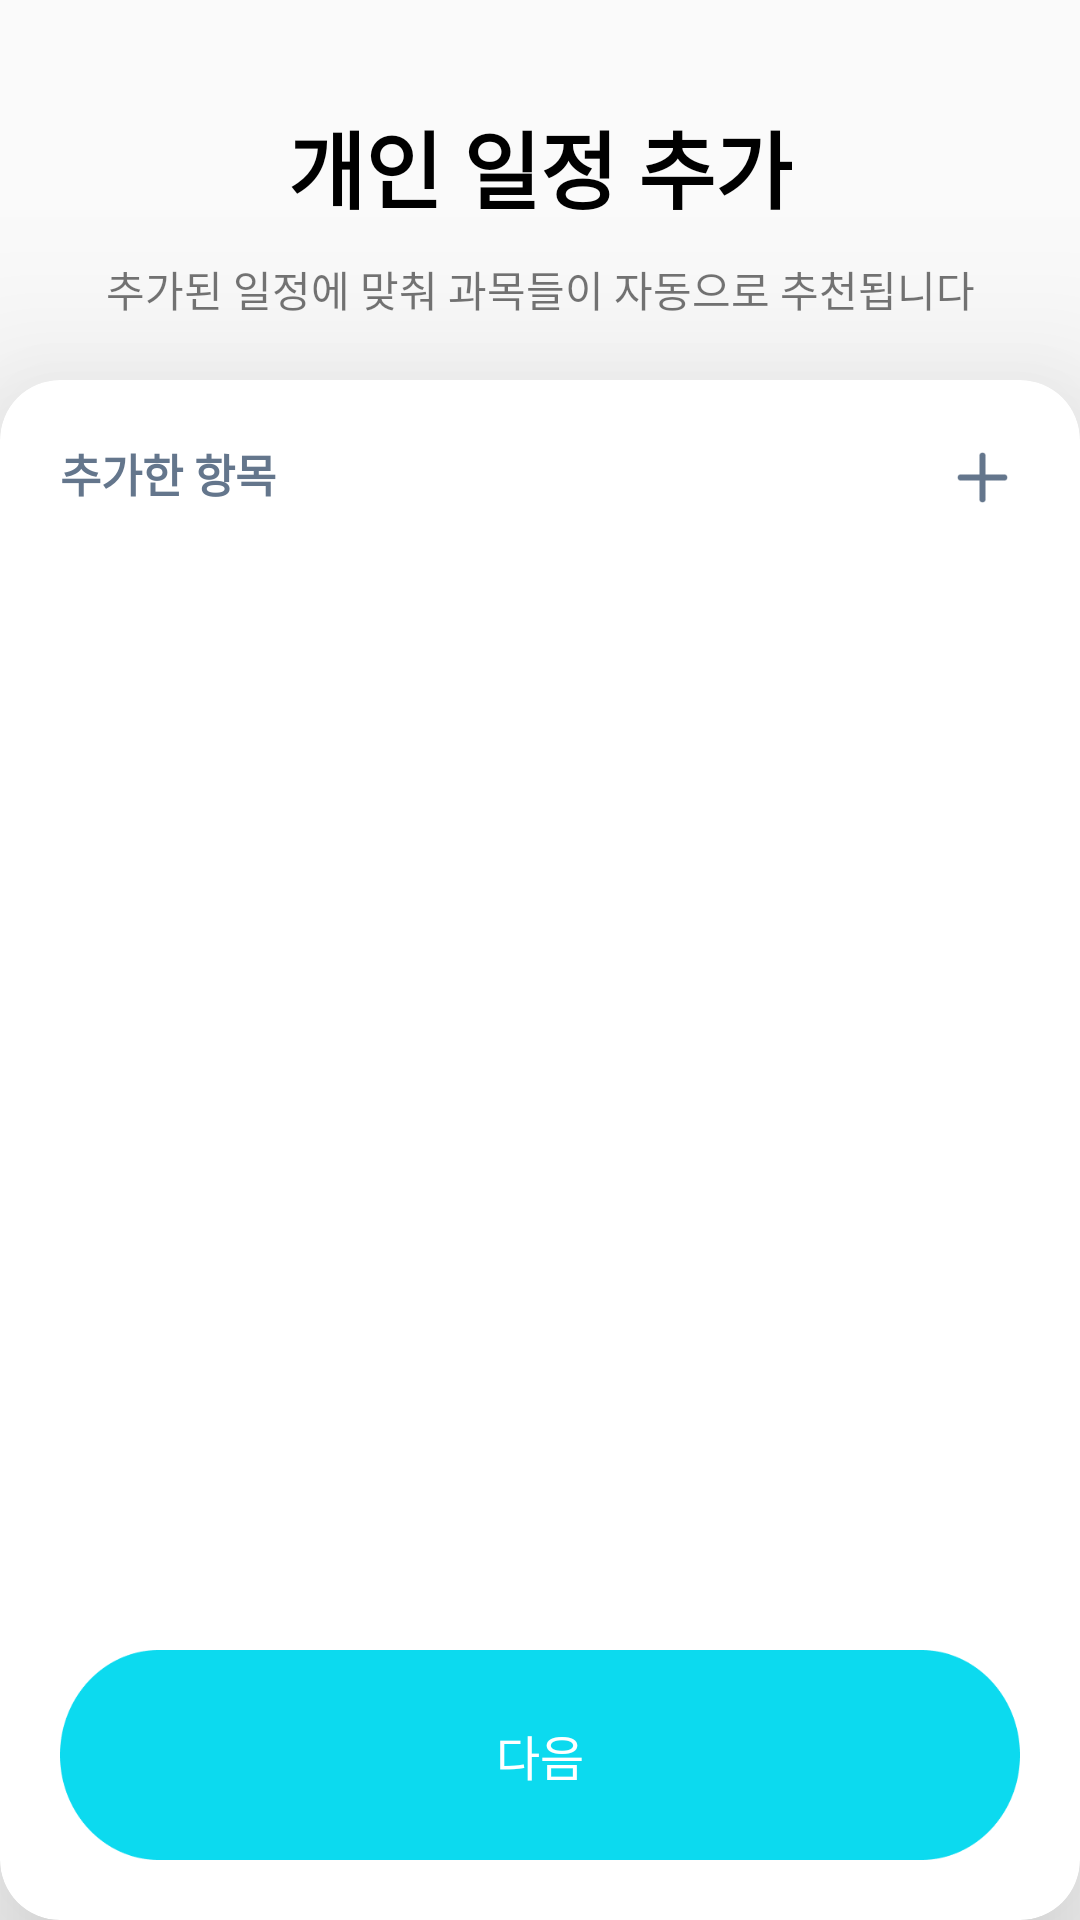

Locate icon controls on the screen. Image size 1080w x 1920h, boxes as (x1, y1, x2, y2).
plus: (957, 452, 1008, 503)
